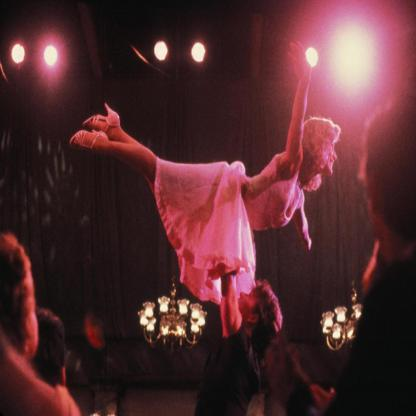face: (238, 288, 260, 315), (322, 135, 338, 172)
